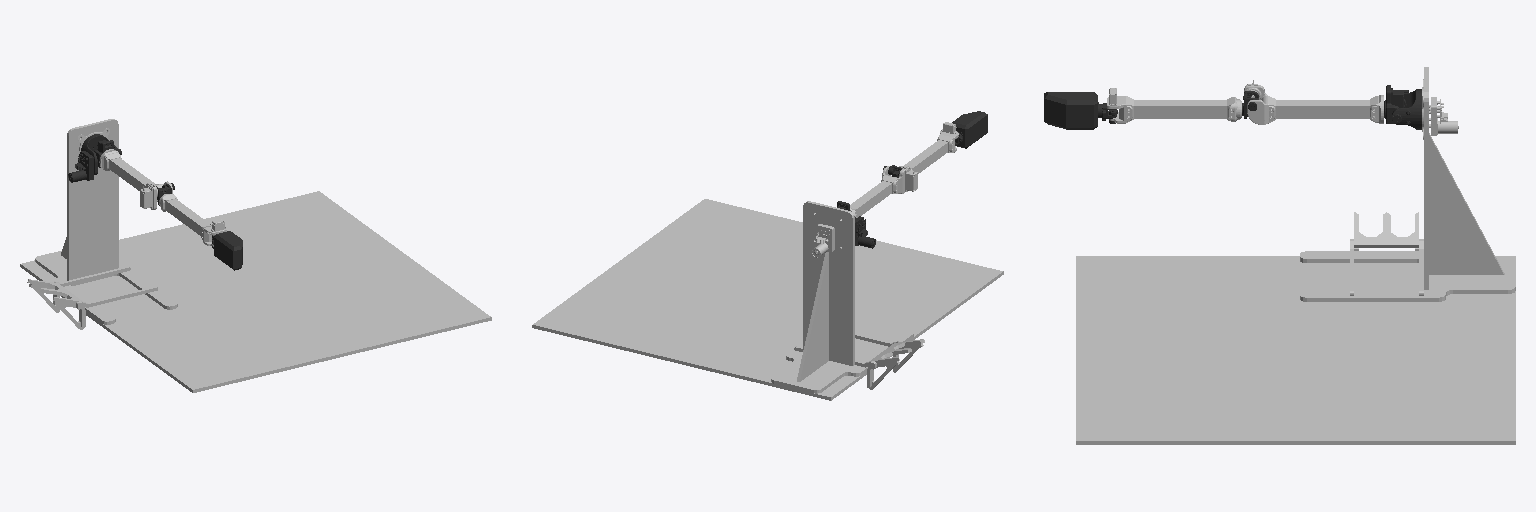
robot.urdf — capstone_arm:
<?xml version="1.0" encoding="utf-8" ?>
<!-- This URDF was automatically created by SolidWorks to URDF Exporter! Originally created by [author] ([email redacted])
     Commit Version: 1.6.0-1-g15f4949  Build Version: 1.6.7594.29634
     For more information, please see http://wiki.ros.org/sw_urdf_exporter -->
<robot name="capstone_arm">
    <link name="link0">

        <inertial>
            <origin xyz="0.28587 -0.24055 0.082819" rpy="0 0 0" />
            <mass value="1" />
            <inertia ixx="1" ixy="0" ixz="0" iyy="1" iyz="0" izz="1" />
        </inertial>

        <visual>
            <origin xyz="0 0 0" rpy="0 0 0" />
            <geometry>
                <mesh filename="package://capstone_arm/meshes/link0.STL" />
            </geometry>
            <material name="">
                <color rgba="0.8 0.8 0.8 1" />
            </material>
        </visual>
        <collision>
            <origin xyz="0 0 0" rpy="0 0 0" />
            <geometry>
                <mesh filename="package://capstone_arm/meshes/link0.STL" />
            </geometry>
        </collision>
    </link>
    <link name="link1">

        <inertial>
            <origin xyz="-0.059664 0.056998 0.023891" rpy="0 0 0" />
            <mass value="0.6678" />
            <inertia ixx="0.00068503" ixy="8.5049E-05" ixz="0.00015076" iyy="0.00089" iyz="-2.8362E-05" izz="0.00065643" />
        </inertial>

        <visual>
            <origin xyz="0 0 0" rpy="0 0 0" />
            <geometry>
                <mesh filename="package://capstone_arm/meshes/link1.STL" />
            </geometry>
            <material name="">
                <color rgba="0.25098 0.25098 0.25098 1" />
            </material>
        </visual>
        <collision>
            <origin xyz="0 0 0" rpy="0 0 0" />
            <geometry>
                <mesh filename="package://capstone_arm/meshes/link1.STL" />
            </geometry>
        </collision>
    </link>
    <joint name="joint1" type="revolute">
        <origin xyz="0 -0.01165 0.51" rpy="3.1416 0 0" />
        <parent link="link0" />
        <child link="link1" />
        <axis xyz="0 1 0" />
        <limit lower="-2.6" upper="2.6" effort="50" velocity="10" />
    </joint>
    <link name="link2">

        <inertial>
            <origin xyz="0.0071665 0.0062904 -0.012775" rpy="0 0 0" />
            <mass value="0.40468" />
            <inertia ixx="0.00016357" ixy="-2.969E-06" ixz="-1.3946E-06" iyy="0.00022393" iyz="4.4635E-06" izz="0.00011225" />
        </inertial>

        <visual>
            <origin xyz="0 0 0" rpy="0 0 0" />
            <geometry>
                <mesh filename="package://capstone_arm/meshes/link2.STL" />
            </geometry>
            <material name="">
                <color rgba="0.25098 0.25098 0.25098 1" />
            </material>
        </visual>
        <collision>
            <origin xyz="0 0 0" rpy="0 0 0" />
            <geometry>
                <mesh filename="package://capstone_arm/meshes/link2.STL" />
            </geometry>
        </collision>
    </link>
    <joint name="joint2" type="revolute">
        <origin xyz="0 0.068 0" rpy="0 0 0" />
        <parent link="link1" />
        <child link="link2" />
        <axis xyz="1 0 0" />
        <limit lower="-0.7" upper="1.57" effort="50" velocity="10" />
    </joint>
    <link name="link3">

        <inertial>
            <origin xyz="-0.25153 0.0048935 -0.019697" rpy="0 0 0" />
            <mass value="0.69216" />
            <inertia ixx="0.00044645" ixy="1.3124E-05" ixz="-8.4613E-06" iyy="0.0019095" iyz="3.2032E-06" izz="0.0019424" />
        </inertial>

        <visual>
            <origin xyz="0 0 0" rpy="0 0 0" />
            <geometry>
                <mesh filename="package://capstone_arm/meshes/link3.STL" />
            </geometry>
            <material name="">
                <color rgba="0.8 0.8 0.8 1" />
            </material>
        </visual>
        <collision>
            <origin xyz="0 0 0" rpy="0 0 0" />
            <geometry>
                <mesh filename="package://capstone_arm/meshes/link3.STL" />
            </geometry>
        </collision>
    </link>
    <joint name="joint3" type="revolute">
        <origin xyz="0 0.035472 0" rpy="-1.5708 0 -1.5708" />
        <parent link="link2" />
        <child link="link3" />
        <axis xyz="1 0 0" />
        <limit lower="-2.35" upper="2.35" effort="50" velocity="10" />
    </joint>
    <link name="link4">

        <inertial>
            <origin xyz="0.010928 0.0044617 0.0113" rpy="0 0 0" />
            <mass value="0.1845" />
            <inertia ixx="4.2498E-05" ixy="-3.4654E-07" ixz="4.6627E-07" iyy="3.9796E-05" iyz="-2.4994E-06" izz="3.1939E-05" />
        </inertial>

        <visual>
            <origin xyz="0 0 0" rpy="0 0 0" />
            <geometry>
                <mesh filename="package://capstone_arm/meshes/link4.STL" />
            </geometry>
            <material name="">
                <color rgba="0.25098 0.25098 0.25098 1" />
            </material>
        </visual>
        <collision>
            <origin xyz="0 0 0" rpy="0 0 0" />
            <geometry>
                <mesh filename="package://capstone_arm/meshes/link4.STL" />
            </geometry>
        </collision>
    </link>
    <joint name="joint4" type="revolute">
        <origin xyz="-0.359 0.02955 0" rpy="1.5708 -1.5708 0" />
        <parent link="link3" />
        <child link="link4" />
        <axis xyz="1 0 0" />
        <limit lower="-2.79" upper="0.175" effort="50" velocity="10" />
    </joint>
    <link name="link5">

        <inertial>
            <origin xyz="-0.21779 0.008534 0.0021872" rpy="0 0 0" />
            <mass value="0.43746" />
            <inertia ixx="0.00021274" ixy="4.618E-06" ixz="2.6716E-06" iyy="0.0017532" iyz="-2.3971E-06" izz="0.0017555" />
        </inertial>

        <visual>
            <origin xyz="0 0 0" rpy="0 0 0" />
            <geometry>
                <mesh filename="package://capstone_arm/meshes/link5.STL" />
            </geometry>
            <material name="">
                <color rgba="0.8 0.8 0.8 1" />
            </material>
        </visual>
        <collision>
            <origin xyz="0 0 0" rpy="0 0 0" />
            <geometry>
                <mesh filename="package://capstone_arm/meshes/link5.STL" />
            </geometry>
        </collision>
    </link>
    <joint name="joint5" type="revolute">
        <origin xyz="0 0.0306 0.02955" rpy="-1.5708 0 -1.5708" />
        <parent link="link4" />
        <child link="link5" />
        <axis xyz="1 0 0" />
        <limit lower="-3.92" upper="0.785" effort="50" velocity="10" />
    </joint>
    <link name="link6">

        <inertial>
            <origin xyz="0.0046648 -0.099034 -0.0026804" rpy="0 0 0" />
            <mass value="0.91456" />
            <inertia ixx="0.0015854" ixy="8.003E-08" ixz="-3.5648E-08" iyy="0.00086703" iyz="-0.00013542" izz="0.0017628" />
        </inertial>

        <visual>
            <origin xyz="0 0 0" rpy="0 0 0" />
            <geometry>
                <mesh filename="package://capstone_arm/meshes/link6.STL" />
            </geometry>
            <material name="">
                <color rgba="0.25098 0.25098 0.25098 1" />
            </material>
        </visual>
        <collision>
            <origin xyz="0 0 0" rpy="0 0 0" />
            <geometry>
                <mesh filename="package://capstone_arm/meshes/link6.STL" />
            </geometry>
        </collision>
    </link>
    <joint name="joint6" type="revolute">
        <origin xyz="-0.3511 0 0" rpy="0 0 -1.5708" />
        <parent link="link5" />
        <child link="link6" />
        <axis xyz="1 0 0" />
        <limit lower="-1.30" upper="1.30" effort="50" velocity="10" />
    </joint>

    <transmission name="trans_joint1">
        <type>transmission_interface/SimpleTransmission</type>
        <joint name="joint1">
            <hardwareInterface>hardware_interface/PositionJointInterface</hardwareInterface>
        </joint>
        <actuator name="joint1_motor">
            <hardwareInterface>hardware_interface/PositionJointInterface</hardwareInterface>
            <mechanicalReduction>1</mechanicalReduction>
        </actuator>
    </transmission>
    <transmission name="trans_joint2">
        <type>transmission_interface/SimpleTransmission</type>
        <joint name="joint2">
            <hardwareInterface>hardware_interface/PositionJointInterface</hardwareInterface>
        </joint>
        <actuator name="joint2_motor">
            <hardwareInterface>hardware_interface/PositionJointInterface</hardwareInterface>
            <mechanicalReduction>1</mechanicalReduction>
        </actuator>
    </transmission>
    <transmission name="trans_joint3">
        <type>transmission_interface/SimpleTransmission</type>
        <joint name="joint3">
            <hardwareInterface>hardware_interface/PositionJointInterface</hardwareInterface>
        </joint>
        <actuator name="joint3_motor">
            <hardwareInterface>hardware_interface/PositionJointInterface</hardwareInterface>
            <mechanicalReduction>1</mechanicalReduction>
        </actuator>
    </transmission>
    <transmission name="trans_joint4">
        <type>transmission_interface/SimpleTransmission</type>
        <joint name="joint4">
            <hardwareInterface>hardware_interface/PositionJointInterface</hardwareInterface>
        </joint>
        <actuator name="joint4_motor">
            <hardwareInterface>hardware_interface/PositionJointInterface</hardwareInterface>
            <mechanicalReduction>1</mechanicalReduction>
        </actuator>
    </transmission>
    <transmission name="trans_joint5">
        <type>transmission_interface/SimpleTransmission</type>
        <joint name="joint5">
            <hardwareInterface>hardware_interface/PositionJointInterface</hardwareInterface>
        </joint>
        <actuator name="joint5_motor">
            <hardwareInterface>hardware_interface/PositionJointInterface</hardwareInterface>
            <mechanicalReduction>1</mechanicalReduction>
        </actuator>
    </transmission>
    <transmission name="trans_joint6">
        <type>transmission_interface/SimpleTransmission</type>
        <joint name="joint6">
            <hardwareInterface>hardware_interface/PositionJointInterface</hardwareInterface>
        </joint>
        <actuator name="joint6_motor">
            <hardwareInterface>hardware_interface/PositionJointInterface</hardwareInterface>
            <mechanicalReduction>1</mechanicalReduction>
        </actuator>
    </transmission>
    <gazebo>
        <plugin name="gazebo_ros_control" filename="libgazebo_ros_control.so">
            <robotNamespace>/</robotNamespace>
        </plugin>
    </gazebo>
</robot>

--- What the picture shows (computed from the rendered views, not written in the file) ---
The picture shows the robot from 3 angles, left to right: view 1: azimuth 30°, elevation 25°; view 2: azimuth 150°, elevation 25°; view 3: azimuth 270°, elevation 25°; orthographic projection.
Model capstone_arm with 7 links and 6 joints (6 revolute), rooted at link0, posed every joint at zero.
Visible links, largest first — view 1: link0, link3, link5, link1, link6; view 2: link0, link3, link5, link6; view 3: link0, link3, link5, link6, link1, link2.
Link boxes in pixels (x1,y1,x2,y2): link0: (20,119,491,392); link3: (99,149,172,209); link5: (159,194,226,246); link1: (68,134,119,182); link6: (212,231,242,270); link0: (532,199,1003,400); link3: (850,166,917,217); link5: (899,122,958,173); link6: (952,111,987,148); link0: (1076,67,1515,444); link3: (1244,80,1383,124); link5: (1107,88,1241,123); link6: (1044,92,1117,129); link1: (1392,89,1421,129); link2: (1384,85,1406,123).
Bounding box of the posed robot: 1.32 × 1.29 × 0.6745 m (x, y, z).
Meshes: 7 distinct files referenced, 7 mesh visuals loaded (7 binary STL).